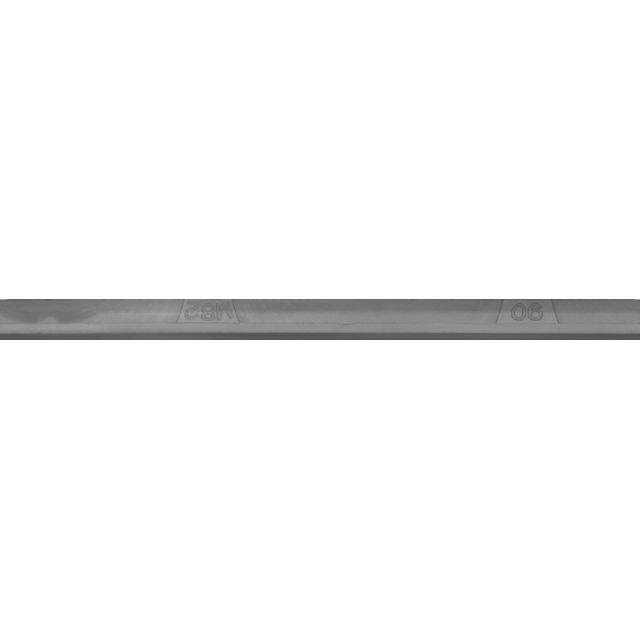mohao: (107, 270, 307, 370)
xuehao: (425, 270, 625, 370)
